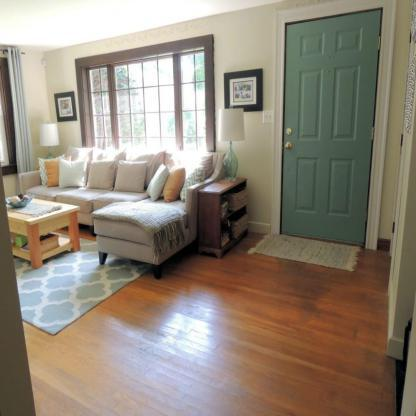bantal: (153, 167, 182, 199), (116, 161, 143, 192), (87, 160, 113, 189), (59, 160, 85, 185), (39, 160, 59, 184)
meja: (215, 107, 246, 179), (37, 121, 62, 156)
sova: (13, 146, 220, 264)
tanaman: (2, 193, 82, 274)
